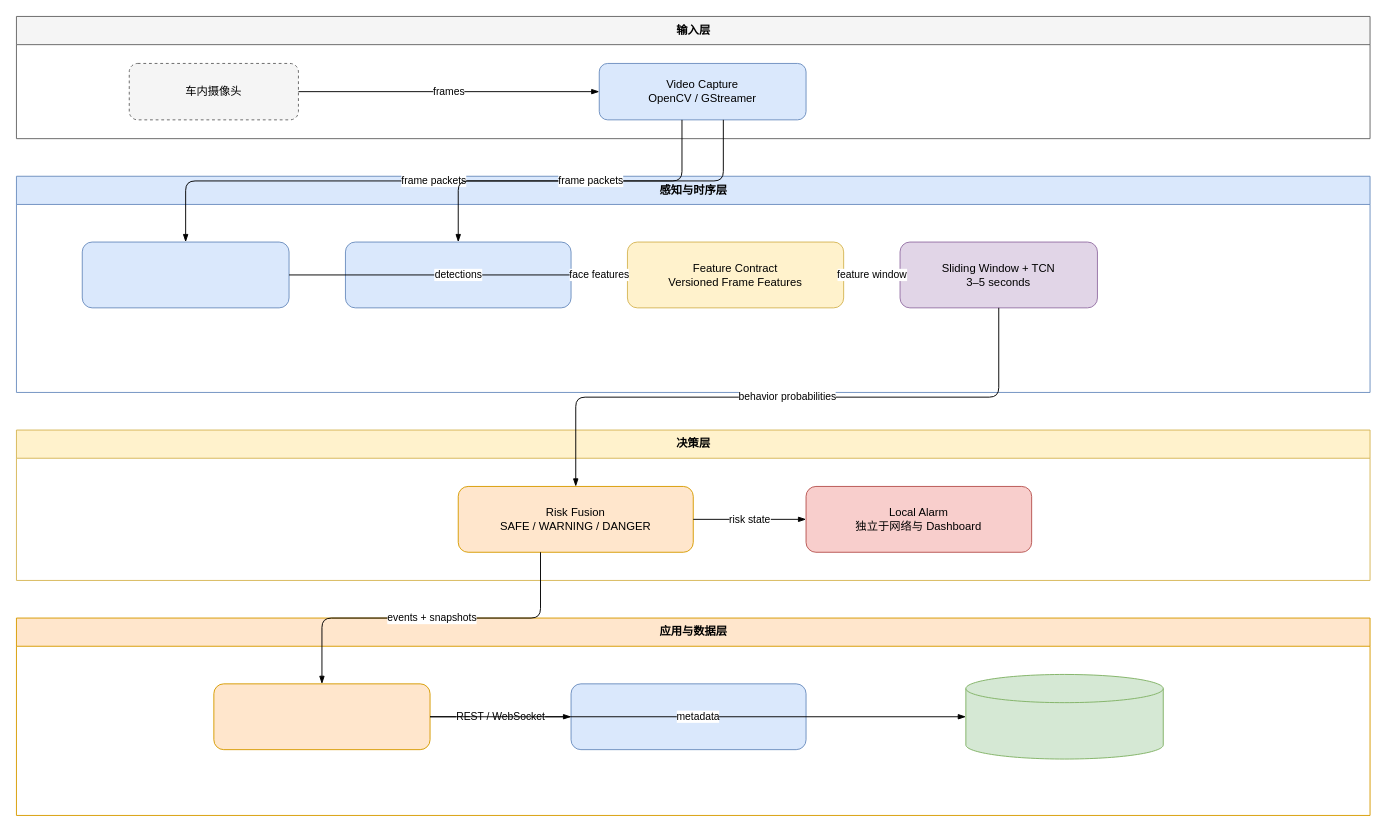
Some shapes in this 1387 by 832 pixel diagram are drawn without their labels. The shapes that lost their labels are listed below. From the top down, each one's box as (x1, y1, x2, y2) in pixels, then its label:
(81, 241, 289, 308): Object Detector Phone / Bottle / Cup
(345, 241, 571, 308): Face & Head Experts EAR / MAR / PERCLOS / Pose
(213, 683, 430, 750): FastAPI Services REST + WebSocket
(570, 683, 806, 750): React Dashboard Monitoring / Events / Stats
(965, 674, 1163, 759): SQLite Events / Settings / Models
